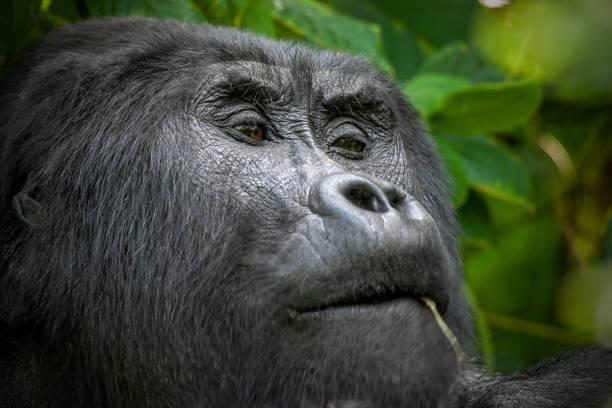goriile_montagne: (4, 11, 507, 408)
